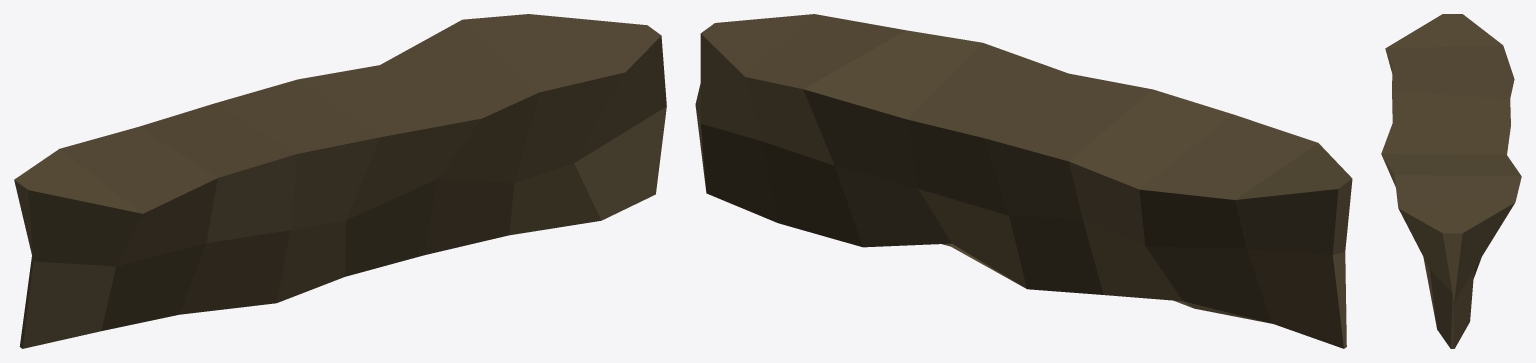
File: Ridge.2.fbx
3 renders of one model, left to right at view 1: azimuth 30°, elevation 25°; view 2: azimuth 150°, elevation 25°; view 3: azimuth 270°, elevation 25°, orthographic. The views are drawn at different scales.
Visible parts, largest first — view 1: Ridge.2; view 2: Ridge.2; view 3: Ridge.2.
Part boxes in pixels (x1=…): Ridge.2: x1=14, y1=14, x2=666, y2=348; Ridge.2: x1=695, y1=14, x2=1352, y2=348; Ridge.2: x1=1381, y1=14, x2=1521, y2=348.
Bounding box in the file's own units: 1325 × 363 × 352.
